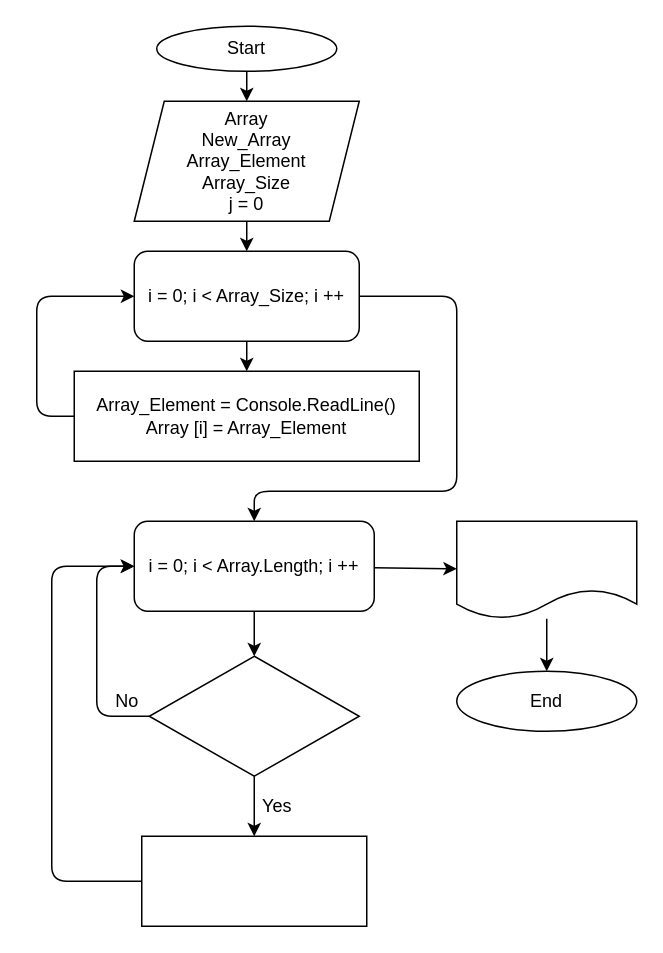
Some shapes in this 663 by 953 pixel diagram are drawn without their labels. Here are the shapes that lost their labels. From the top down, the centre of each, then its label:
pixel 546 569: New_Array
pixel 253 715: Array [ i ].Length <= 3
pixel 253 880: New_Array[ j ] = Array[ i ] j ++
